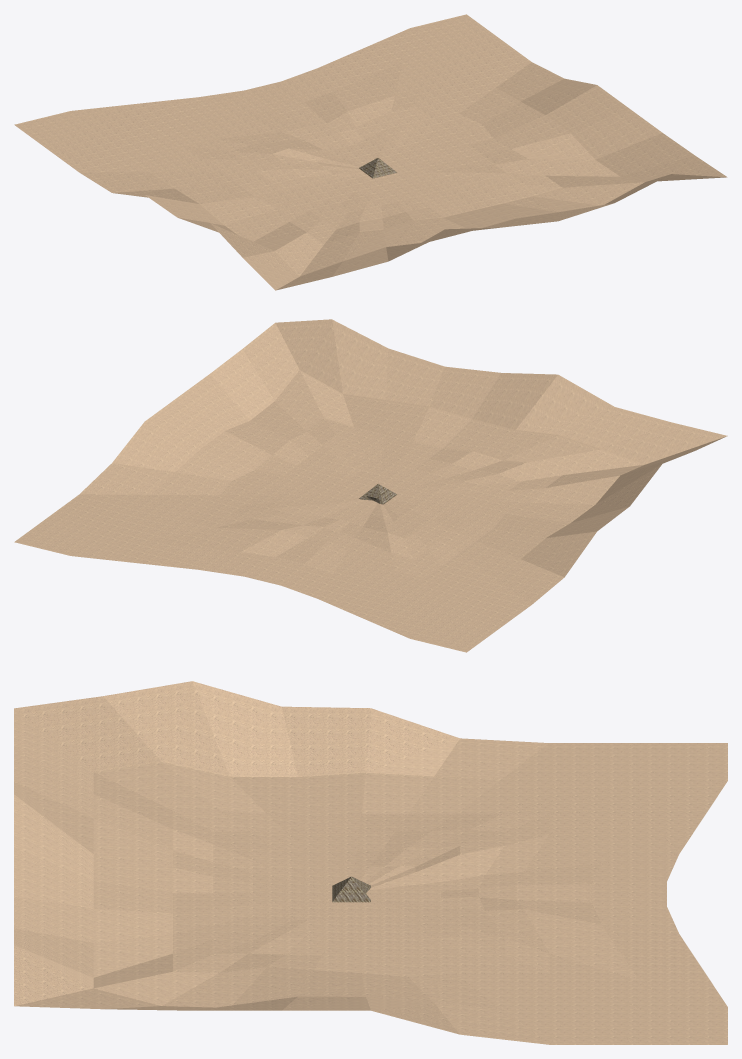
3 renders of one model, top to bottom at view 1: azimuth 30°, elevation 25°; view 2: azimuth 150°, elevation 25°; view 3: azimuth 270°, elevation 25°, orthographic. The views are drawn at different scales.
Parts seen in each view (by area): view 1: Cube; view 2: Cube; view 3: Cube.
Part boxes in pixels (<box>): Cube: <box>14,14,727,290</box>; Cube: <box>14,319,727,652</box>; Cube: <box>14,681,727,1044</box>.
Size of the model in its own units: 1157 by 111 by 1157.
Materials: 2 (2 with a texture image).
